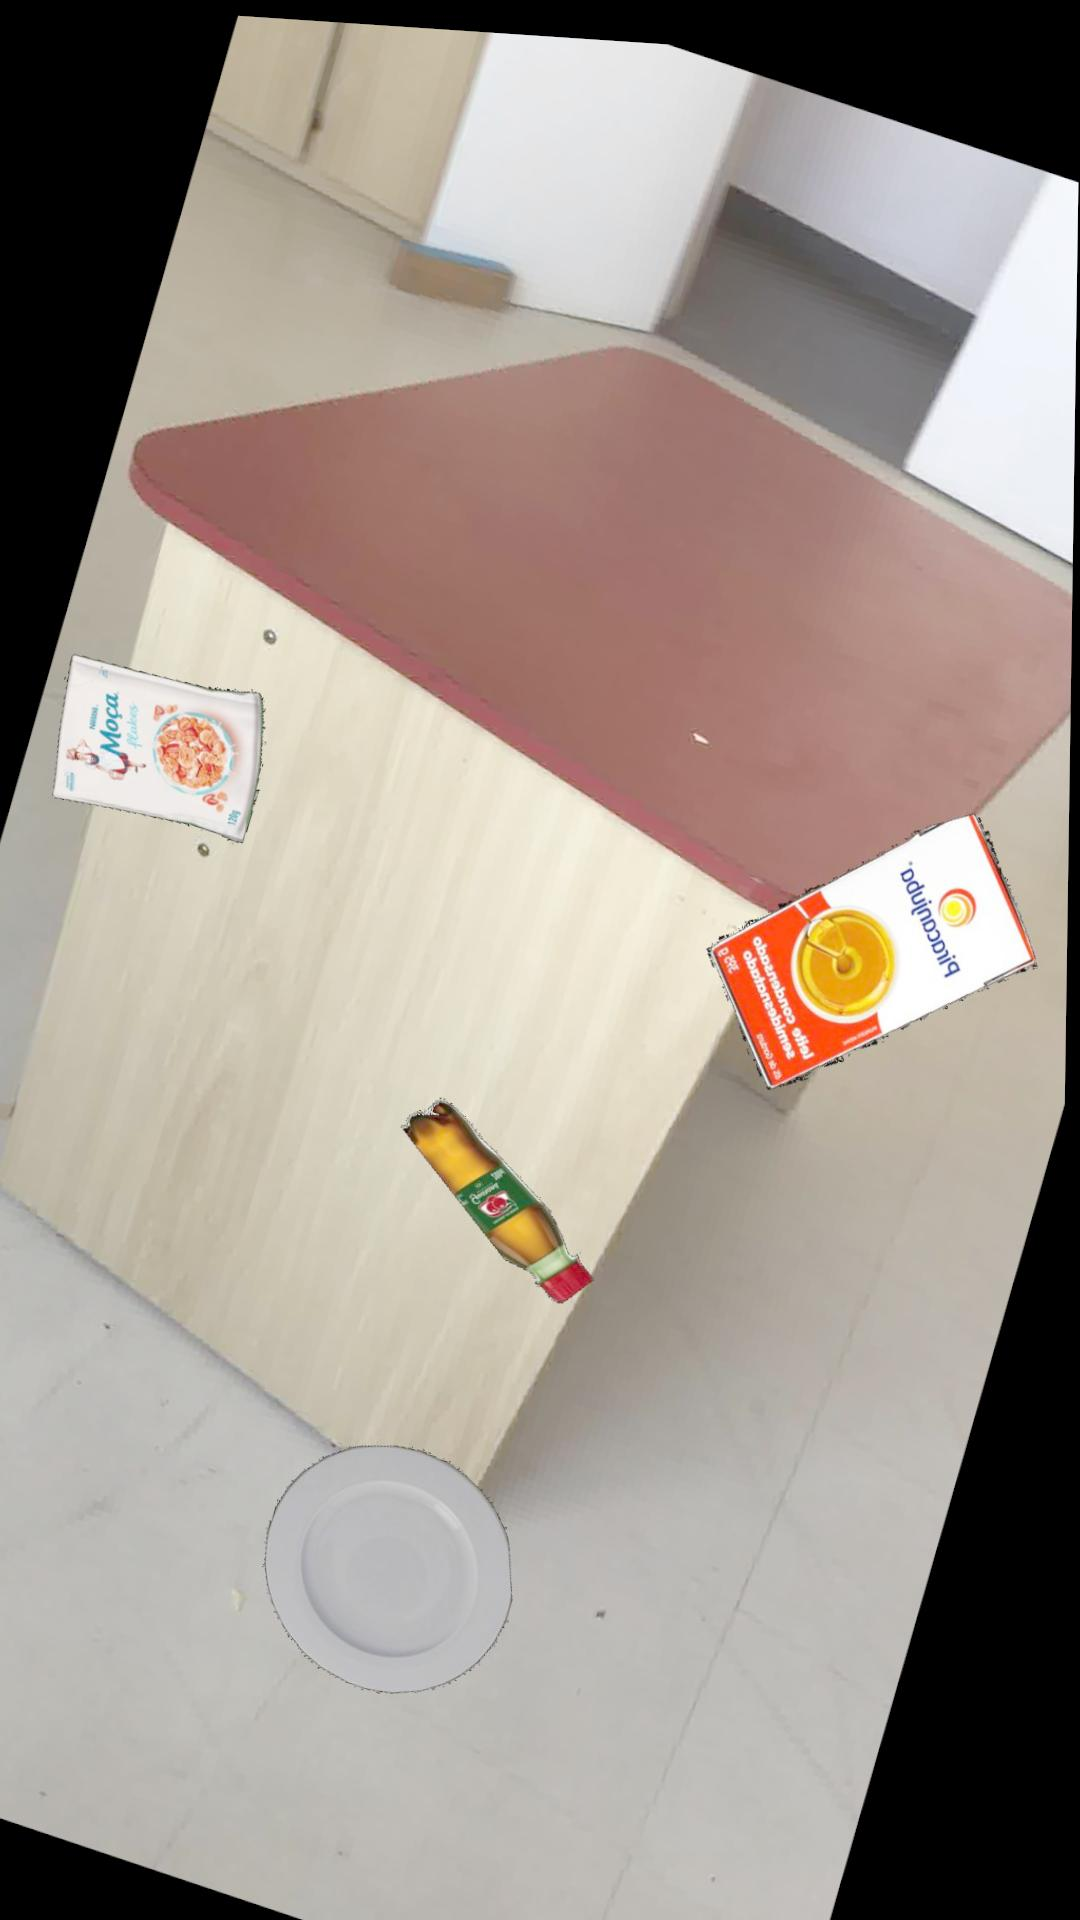corn flakes: (57, 651, 269, 839)
guarana: (406, 1093, 600, 1294)
plate: (270, 1439, 520, 1687)
